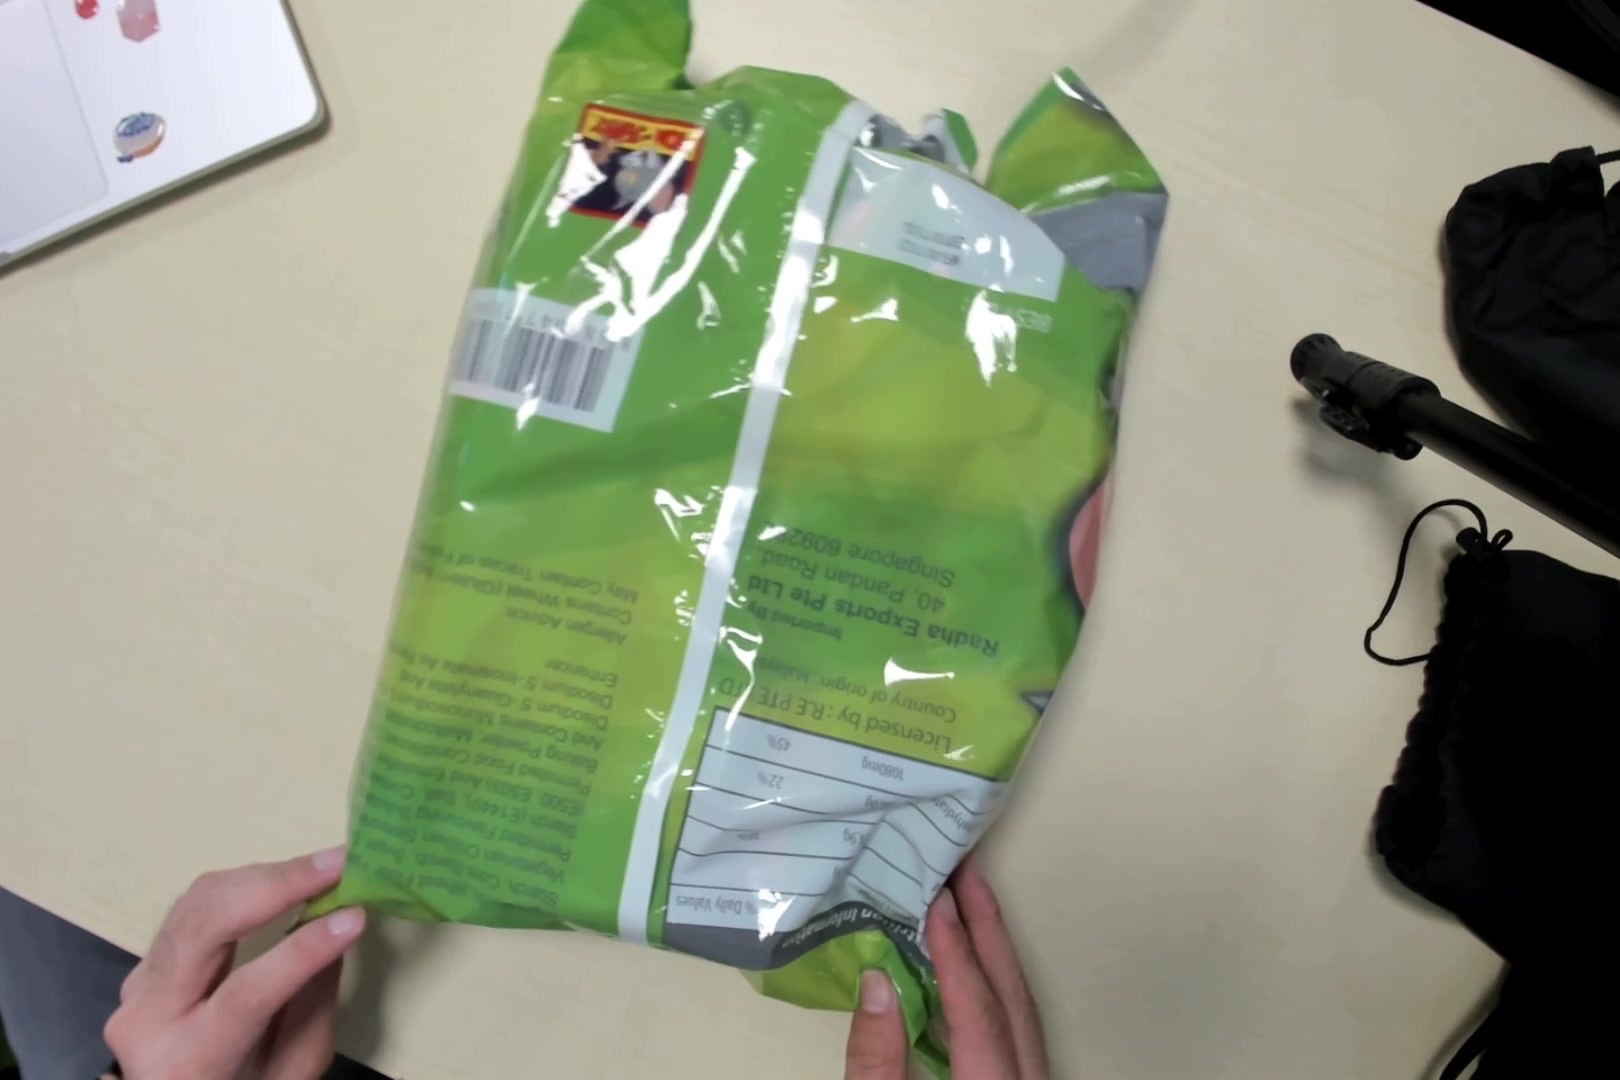PotatoChipsKeropok_200-299g_Halal_NonHealthy: (351, 6, 1149, 1009)
